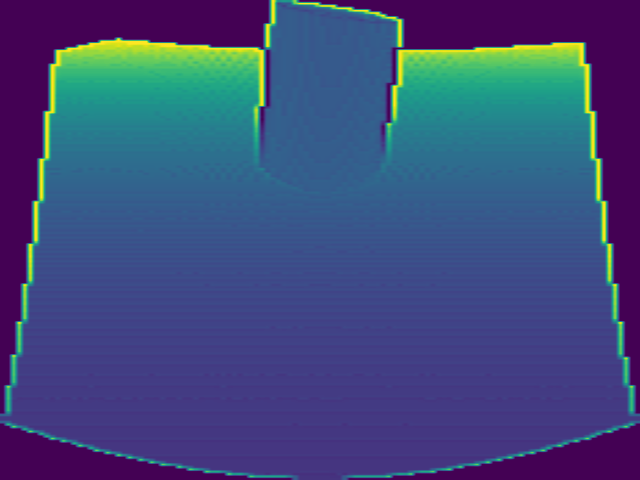cylinder: (253, 1, 404, 187)
